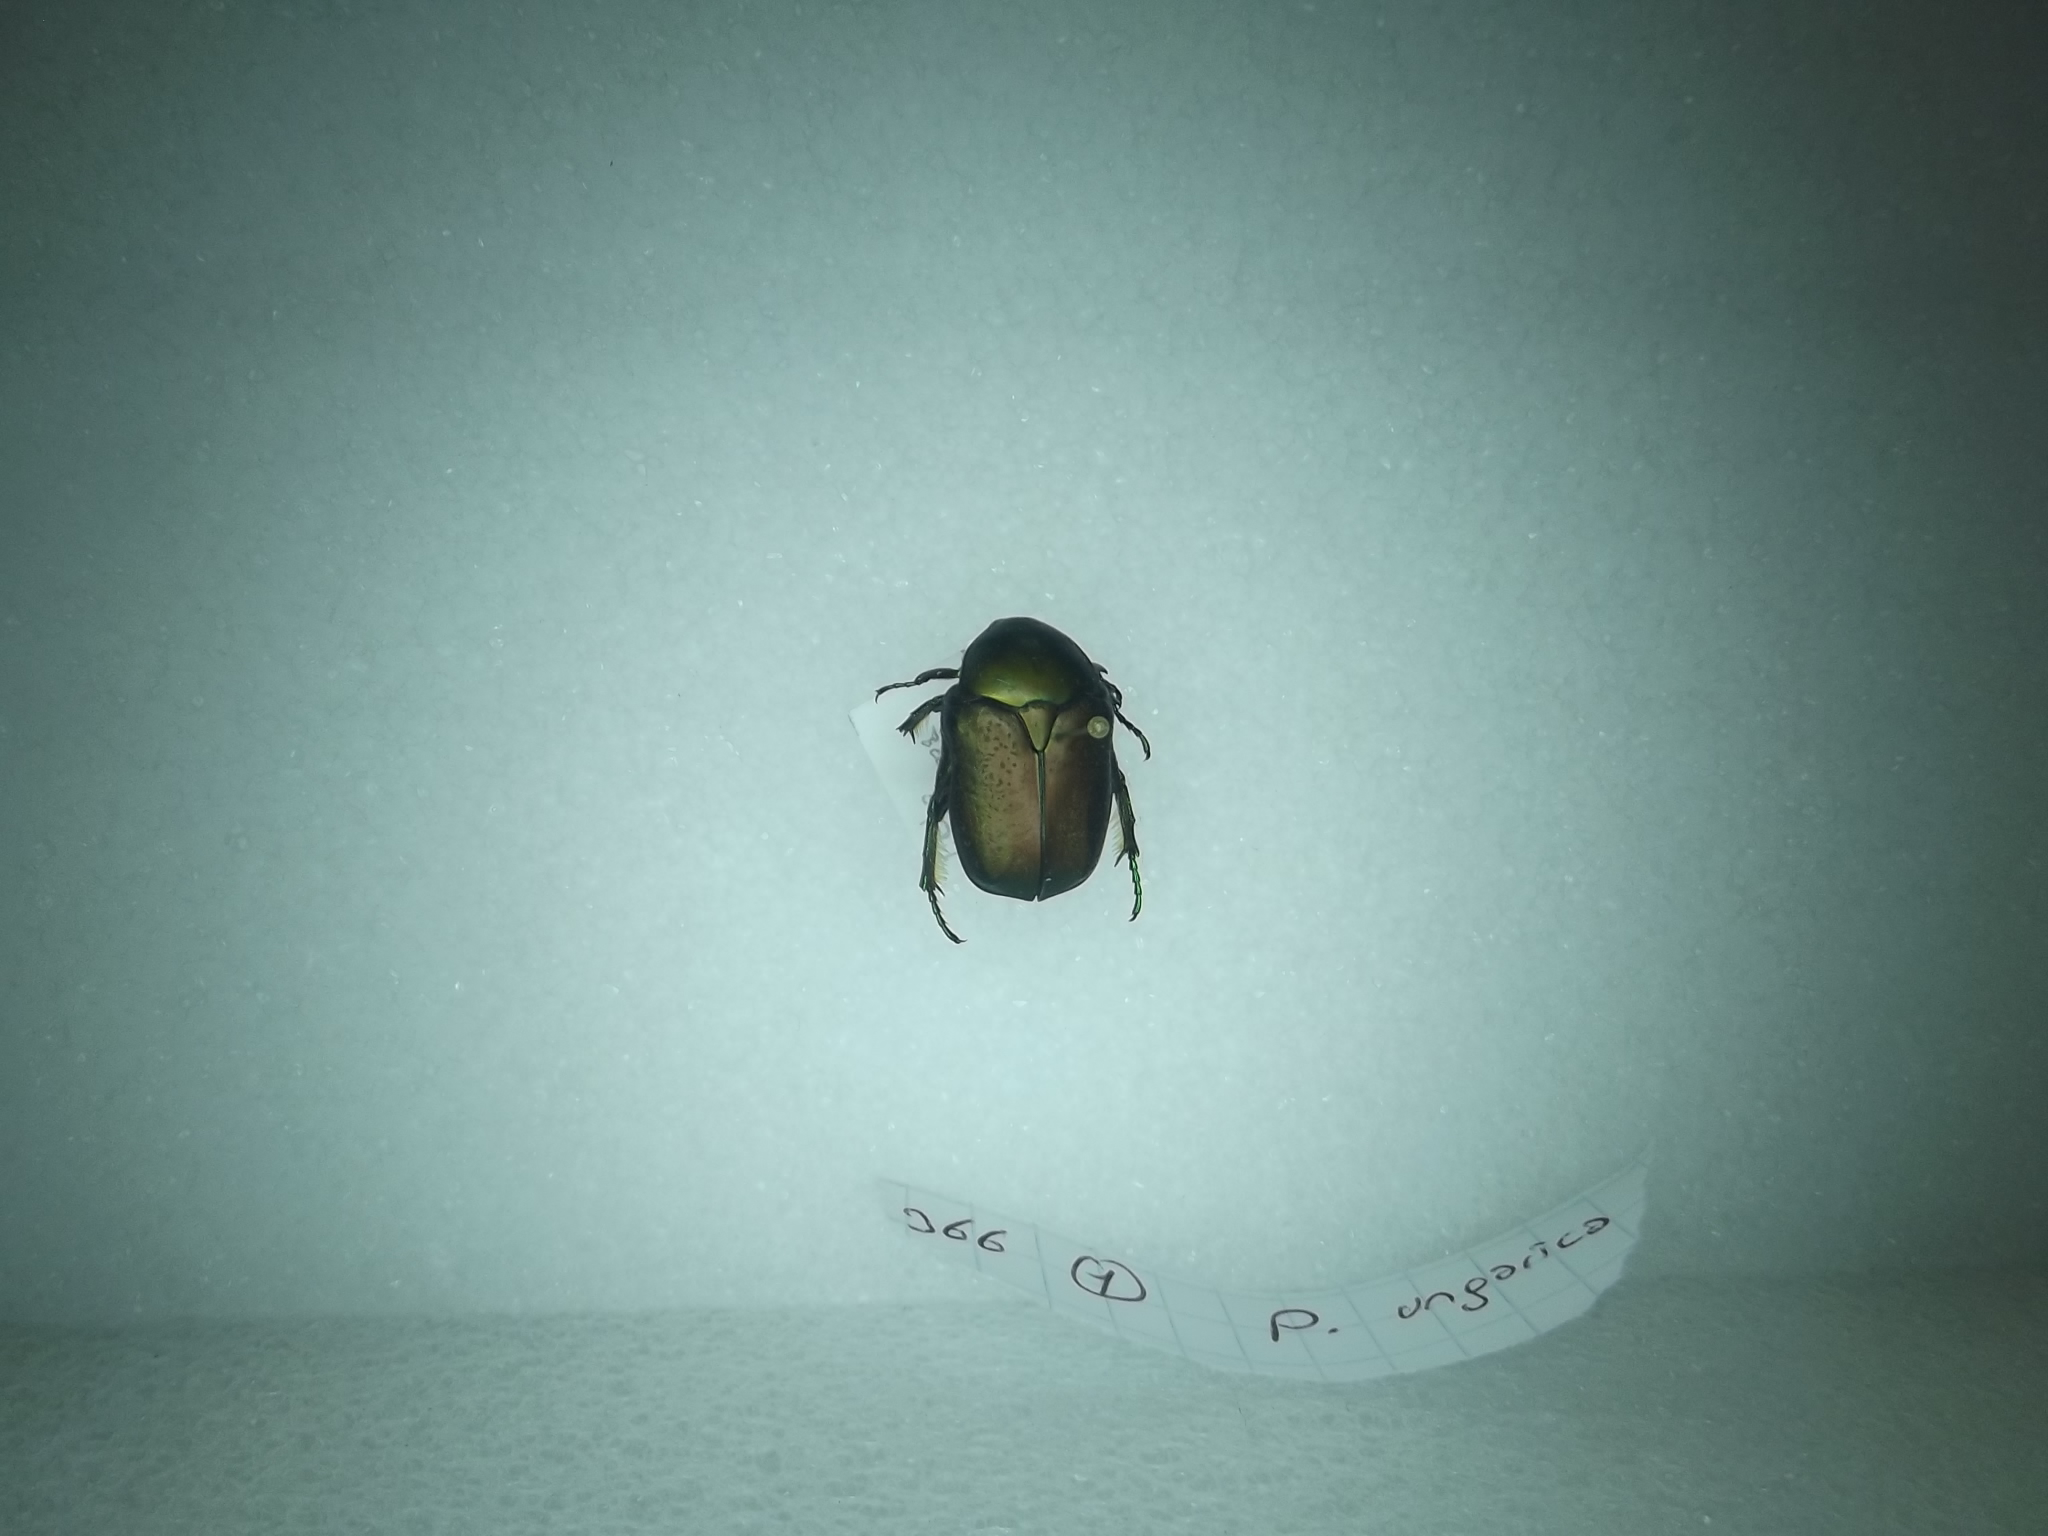Protaetia_ungarica_americana: (871, 594, 1177, 957)
